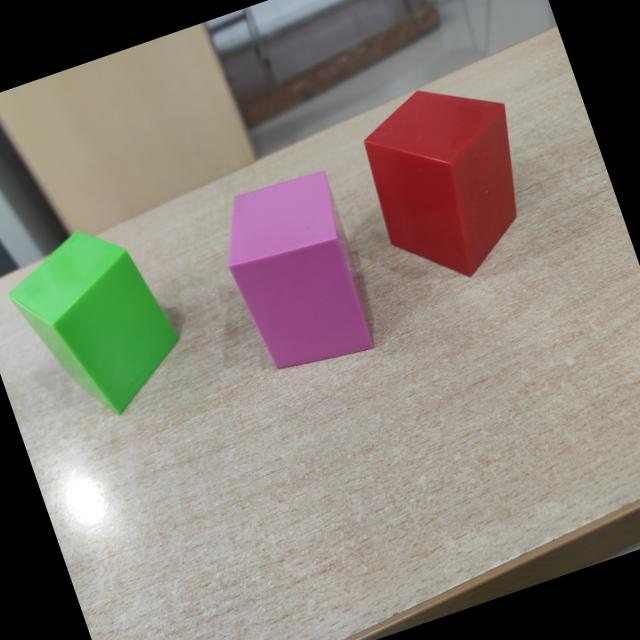green: (8, 232, 179, 416)
pink: (227, 170, 375, 371)
red: (364, 91, 518, 278)
